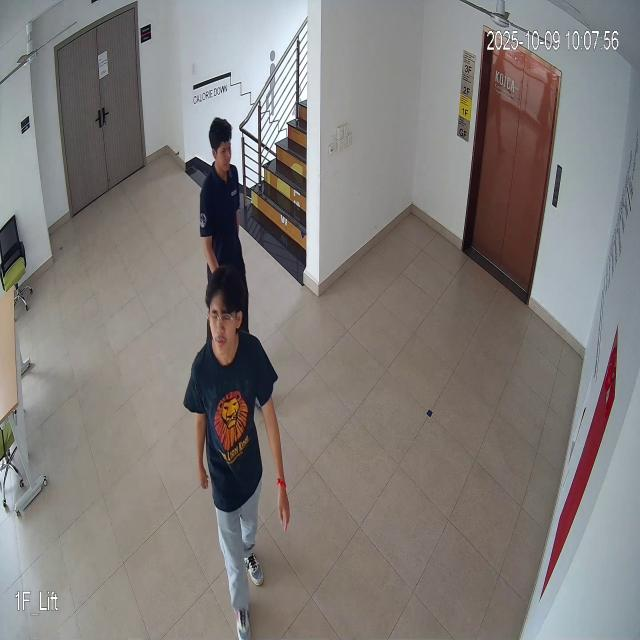face: (204, 263, 246, 362), (208, 114, 238, 172)
